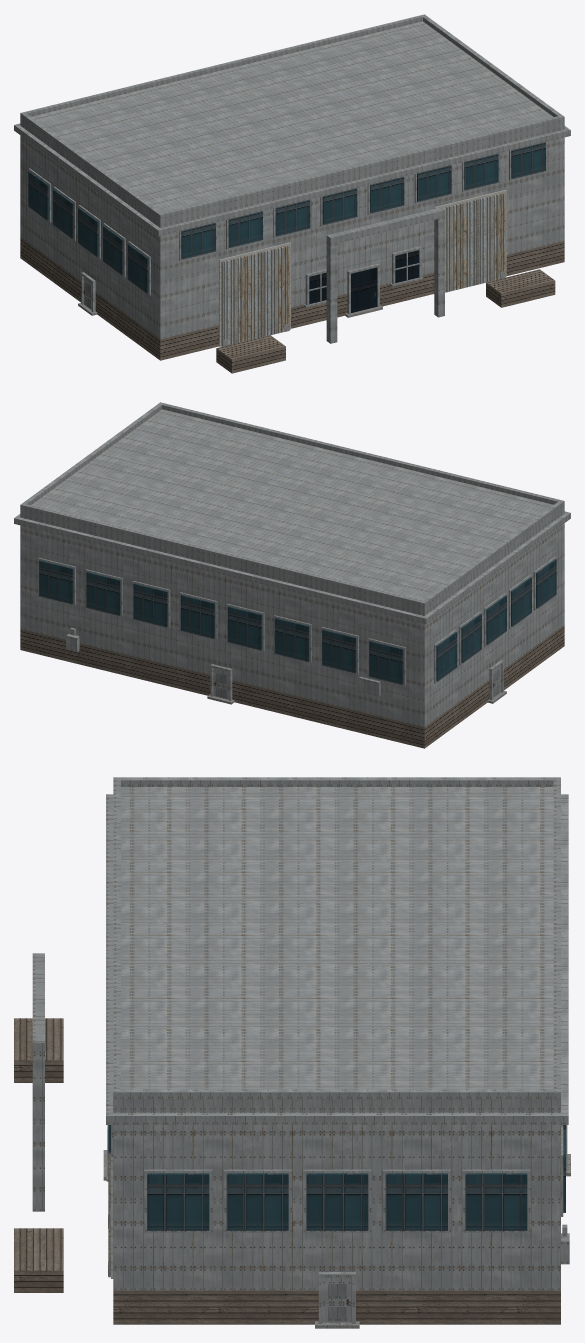
File: harbor-boat-works_lod0.gltf
3 renders of one model, top to bottom at view 1: azimuth 30°, elevation 25°; view 2: azimuth 150°, elevation 25°; view 3: azimuth 270°, elevation 25°, orthographic. The views are drawn at different scales.
Parts seen in each view (by area): view 1: harbor-boat-works_upper, harbor-boat-works_fen_07-glass-curtain-blue_6, harbor-boat-works_fen_21-corrugated-steel_1, harbor-boat-works_base, harbor-boat-works__cornice, harbor-boat-works_fen_14-steel-panel_2, harbor-boat-works__parapet_front, harbor-boat-works__parapet_back, harbor-boat-works_fen_07-glass-curtain-blue_3_t, harbor-boat-works__cradle_a, harbor-boat-works__cradle_b, harbor-boat-works__lift_beam (+5 smaller); view 2: harbor-boat-works_upper, harbor-boat-works_fen_07-glass-curtain-blue_6, harbor-boat-works_base, harbor-boat-works_fen_14-steel-panel_2, harbor-boat-works__cornice, harbor-boat-works__parapet_back, harbor-boat-works__parapet_front, harbor-boat-works__parapet_left, harbor-boat-works__parapet_right; view 3: harbor-boat-works_upper, harbor-boat-works_fen_07-glass-curtain-blue_6, harbor-boat-works_base, harbor-boat-works__cornice, harbor-boat-works_fen_14-steel-panel_2, harbor-boat-works__parapet_right, harbor-boat-works__parapet_left, harbor-boat-works__cradle_b, harbor-boat-works__parapet_front, harbor-boat-works__parapet_back, harbor-boat-works__cradle_a, harbor-boat-works__lift_post_b (+1 smaller).
Boxes of the visible parts, <box> form: harbor-boat-works_upper: <box>20,21,564,339</box>; harbor-boat-works_fen_07-glass-curtain-blue_6: <box>28,142,545,293</box>; harbor-boat-works_fen_21-corrugated-steel_1: <box>221,193,505,346</box>; harbor-boat-works_base: <box>20,237,564,360</box>; harbor-boat-works__cornice: <box>14,123,570,236</box>; harbor-boat-works_fen_14-steel-panel_2: <box>28,142,546,346</box>; harbor-boat-works__parapet_front: <box>158,115,564,219</box>; harbor-boat-works__parapet_back: <box>20,14,426,118</box>; harbor-boat-works_fen_07-glass-curtain-blue_3_t: <box>309,250,418,312</box>; harbor-boat-works__cradle_a: <box>216,335,285,373</box>; harbor-boat-works__cradle_b: <box>486,269,555,307</box>; harbor-boat-works__lift_beam: <box>326,207,444,244</box>; harbor-boat-works_upper: <box>20,409,564,727</box>; harbor-boat-works_fen_07-glass-curtain-blue_6: <box>39,559,556,684</box>; harbor-boat-works_base: <box>20,625,564,748</box>; harbor-boat-works_fen_14-steel-panel_2: <box>38,556,556,700</box>; harbor-boat-works__cornice: <box>14,511,570,624</box>; harbor-boat-works__parapet_back: <box>20,503,426,607</box>; harbor-boat-works__parapet_front: <box>158,402,564,506</box>; harbor-boat-works__parapet_left: <box>423,501,562,605</box>; harbor-boat-works__parapet_right: <box>23,404,161,504</box>; harbor-boat-works_upper: <box>113,787,560,1290</box>; harbor-boat-works_fen_07-glass-curtain-blue_6: <box>108,1125,565,1230</box>; harbor-boat-works_base: <box>113,1290,560,1324</box>; harbor-boat-works__cornice: <box>106,794,568,1124</box>; harbor-boat-works_fen_14-steel-panel_2: <box>106,1125,569,1323</box>; harbor-boat-works__parapet_right: <box>121,1089,553,1099</box>; harbor-boat-works__parapet_left: <box>121,777,553,786</box>; harbor-boat-works__cradle_b: <box>14,1228,63,1292</box>; harbor-boat-works__parapet_front: <box>113,777,120,1099</box>; harbor-boat-works__parapet_back: <box>553,777,560,1099</box>; harbor-boat-works__cradle_a: <box>14,1018,63,1082</box>; harbor-boat-works__lift_post_b: <box>32,1054,44,1211</box>.
Bounding box in the file's own units: 30.8 × 10.3 × 22.4.
